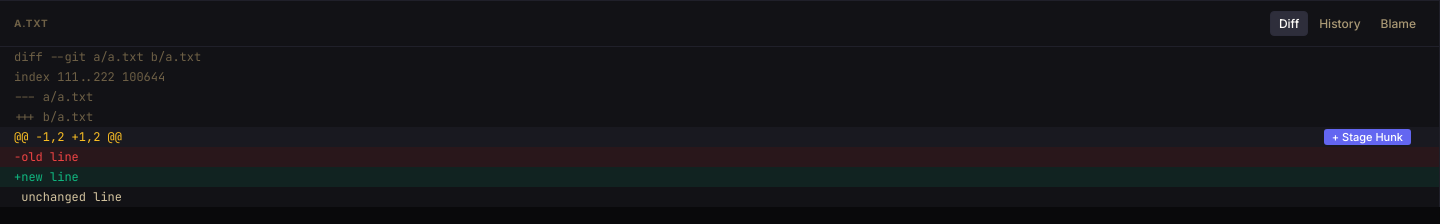
DiffViewer › tabs › loads blame annotations on demand
The width and height of the screenshot is (1440, 224).
Expected: the text "+new line" is shown, [14,169,79,185]
Click the button "Blame" at (1398, 24), box [1372,11,1425,36]
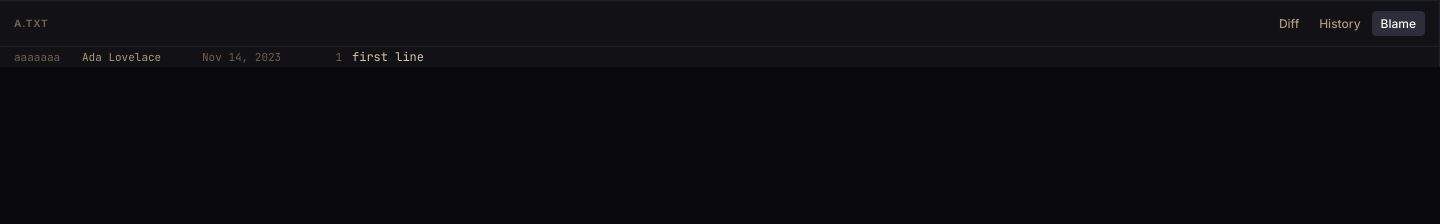
Result: the text "first line" is shown at [352,49,424,65]
Result: the text "Ada Lovelace" is shown at [82,50,161,64]
